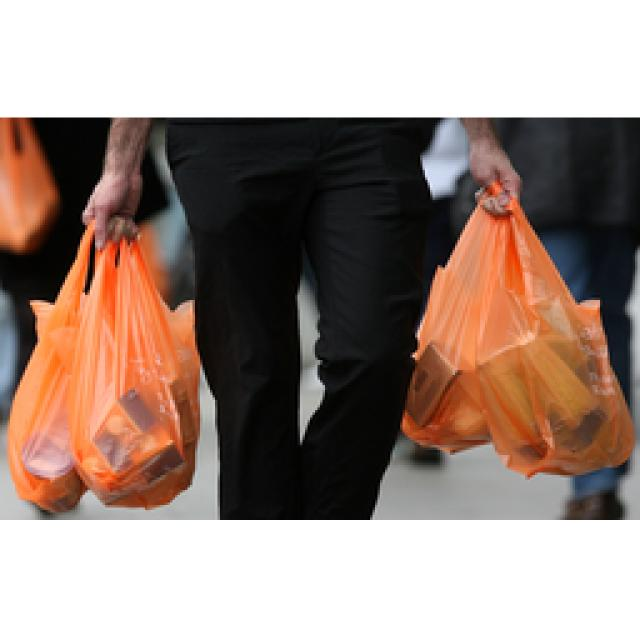plastic: (402, 198, 632, 475), (10, 225, 192, 508)
